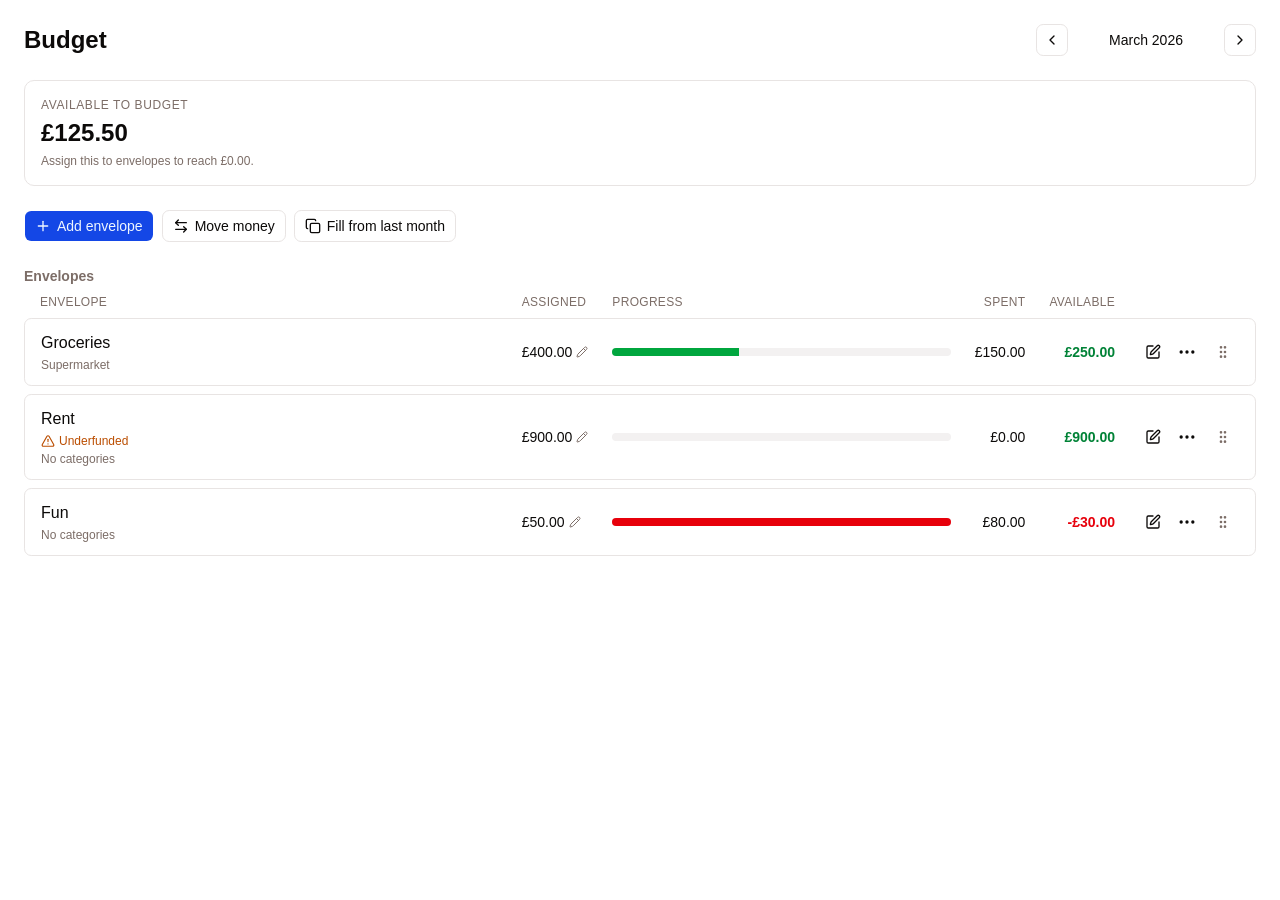
Scenario: BudgetPage actions › opens Move money with From, To and Amount, and submits the same payload
Click the button "Move money".
click(224, 226)  # box top-left (162, 210), bottom-right (286, 242)
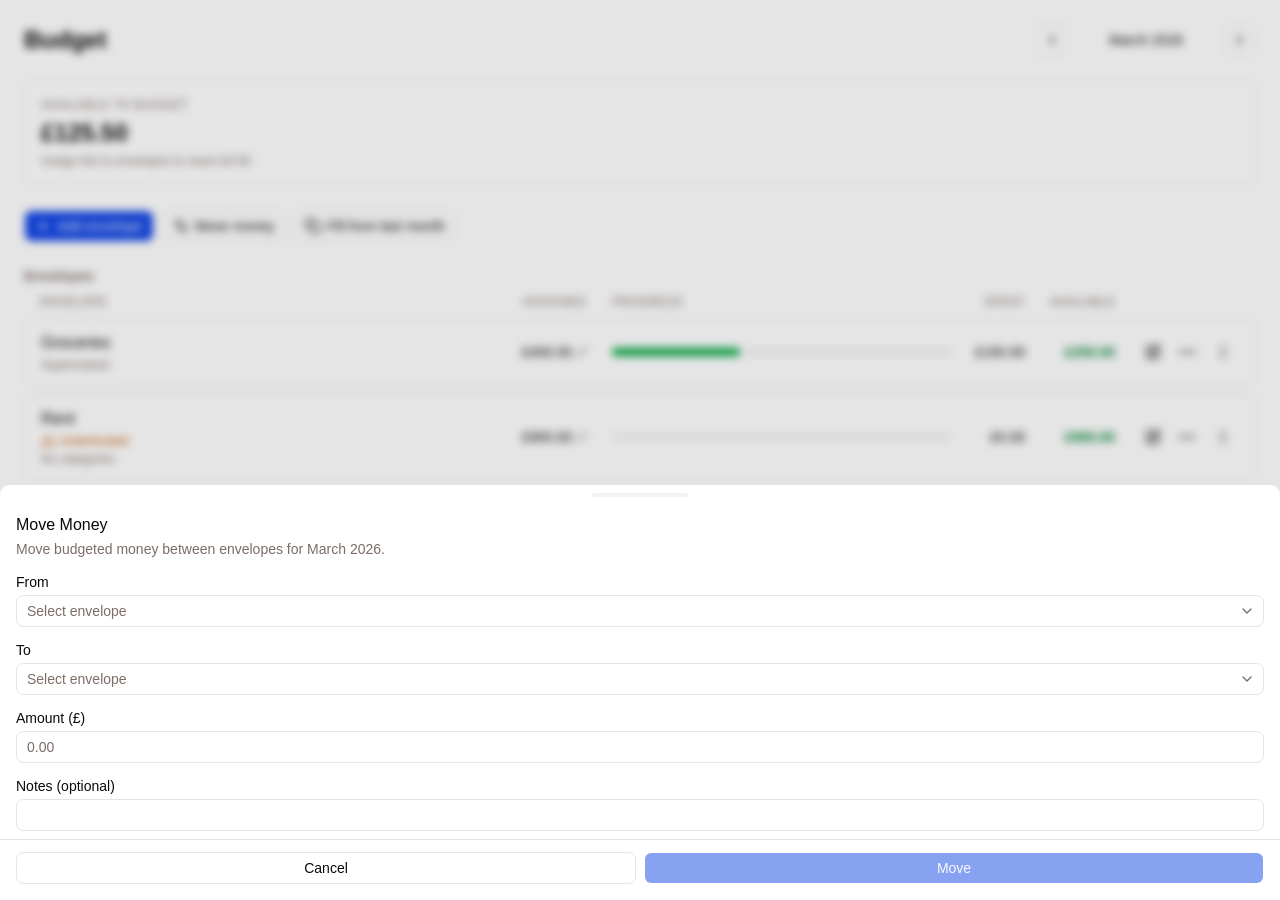
Expected: the heading "Move Money" is shown, top-left (16, 516), bottom-right (108, 533)
Expected: the number field labelled "Amount (£)" is shown, top-left (16, 731), bottom-right (1264, 763)
Expected: the button "Move" is disabled, top-left (644, 852), bottom-right (1264, 884)
